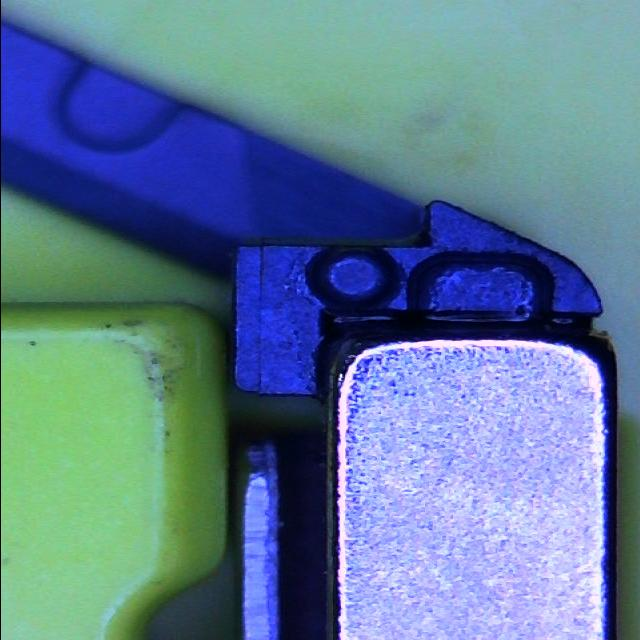lacking: (404, 252, 556, 324)
